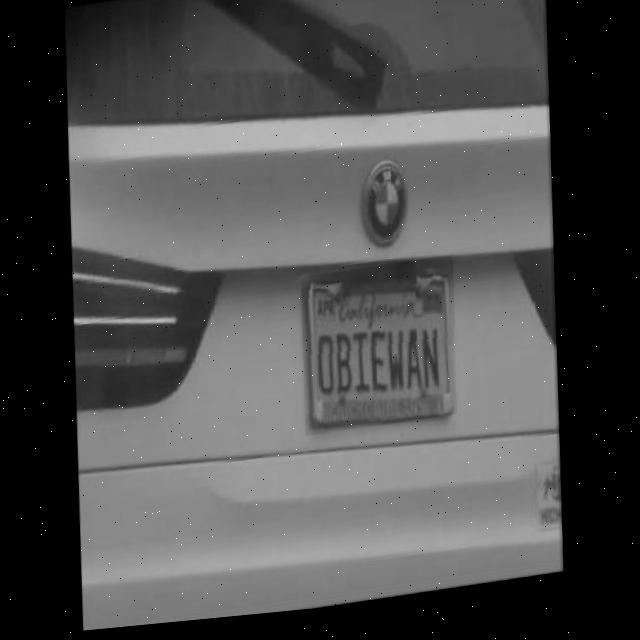LicensePlate: (300, 264, 463, 444)
